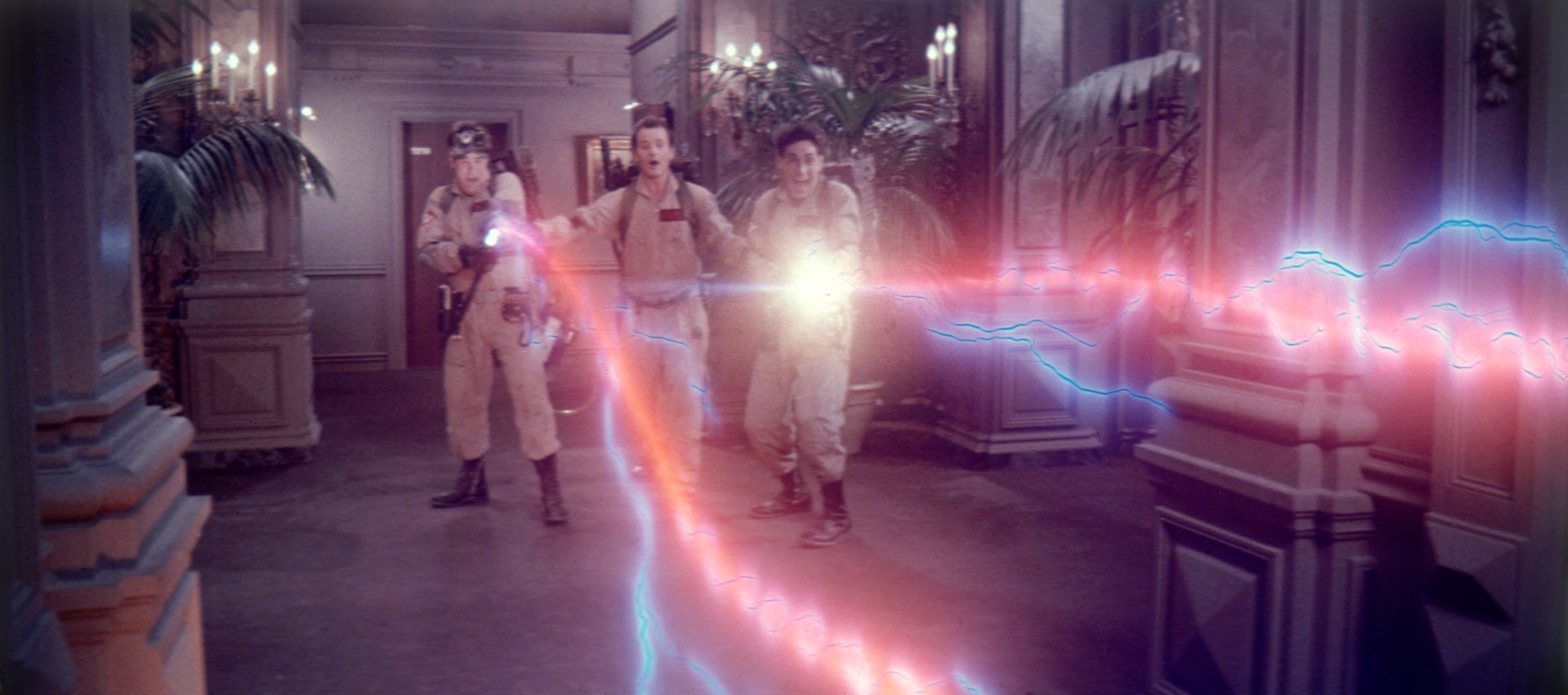25: (775, 132, 825, 203), (447, 139, 493, 200)
41: (629, 119, 674, 182)
Belt: (608, 270, 714, 310), (443, 281, 542, 313)
Boots: (795, 479, 865, 547), (426, 455, 498, 514), (744, 472, 817, 522), (528, 452, 577, 524)
Female: (775, 132, 825, 203)
Glasses: (772, 149, 831, 176)
Gloves: (481, 216, 548, 252), (454, 234, 502, 276)
Jump suit: (534, 167, 754, 487), (414, 173, 568, 471), (740, 176, 865, 490)
Male: (629, 119, 674, 182), (447, 139, 493, 200)
